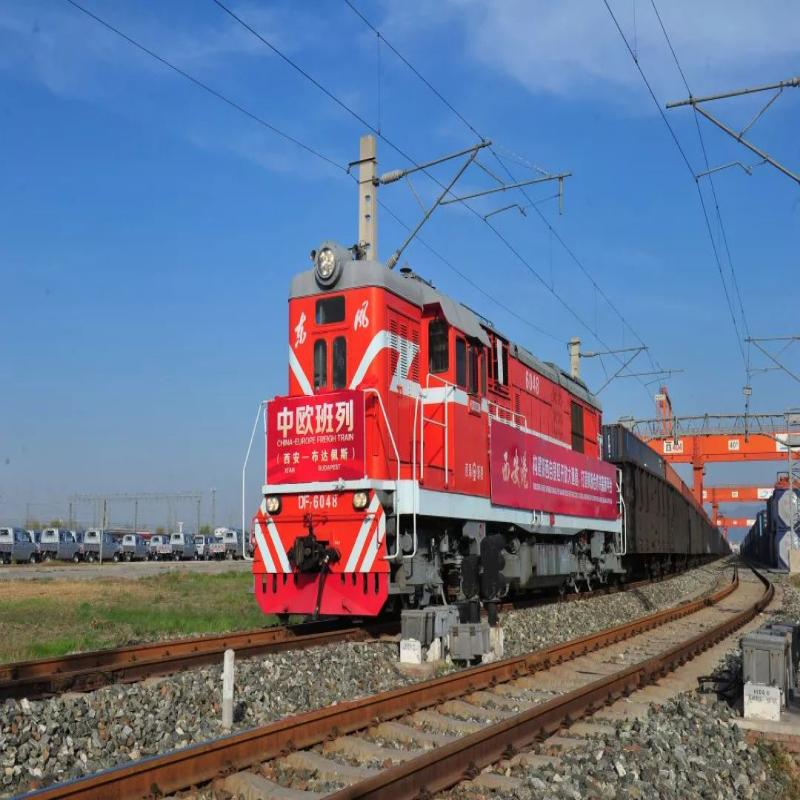train: (290, 261, 431, 556), (628, 494, 687, 562)
